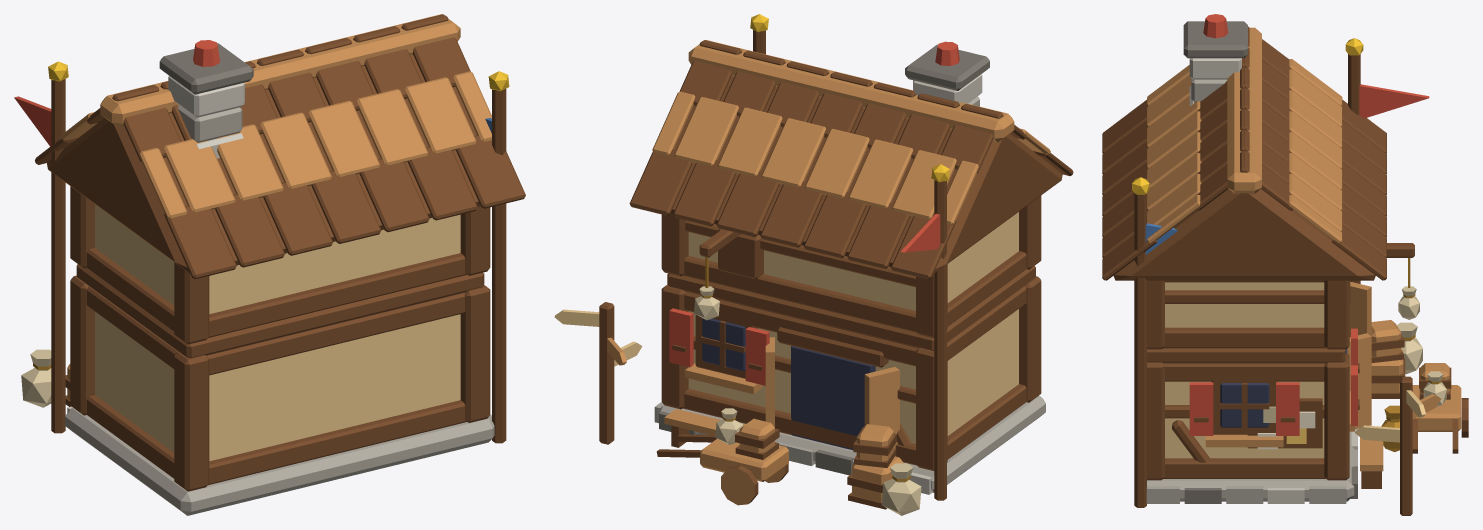
File: courier_station_l2.fbx
The picture shows the model from 3 angles, left to right: view 1: azimuth 30°, elevation 25°; view 2: azimuth 150°, elevation 25°; view 3: azimuth 270°, elevation 25°; orthographic projection. The views are drawn at different scales.
Visible parts, largest first — view 1: courier_station_l2, Flag; view 2: courier_station_l2, Flag; view 3: courier_station_l2, Flag.
Boxes of the visible parts, left/top/right/bottom form: courier_station_l2: left=21, top=14, right=525, bottom=515; Flag: left=14, top=96, right=51, bottom=146; courier_station_l2: left=554, top=14, right=1073, bottom=515; Flag: left=901, top=213, right=940, bottom=252; courier_station_l2: left=1102, top=14, right=1468, bottom=515; Flag: left=1359, top=84, right=1429, bottom=118.
Bounding box in the file's own units: 0.8591 × 0.8724 × 0.7616.
